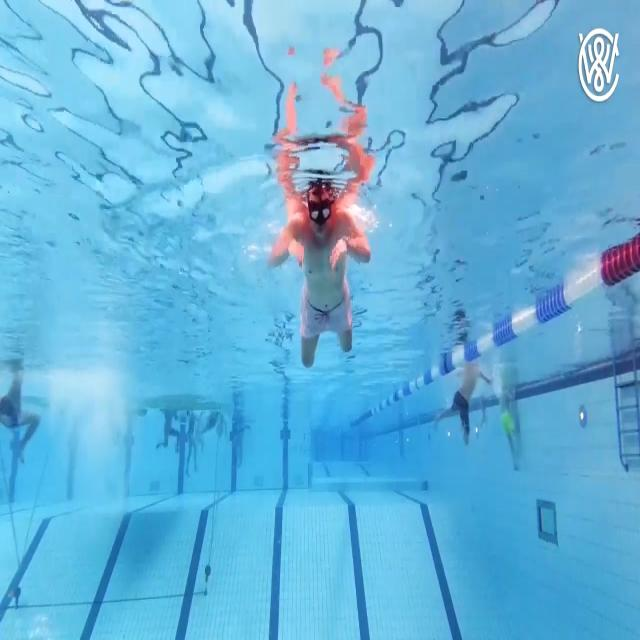Swimming: (266, 178, 372, 370), (434, 364, 491, 446)
